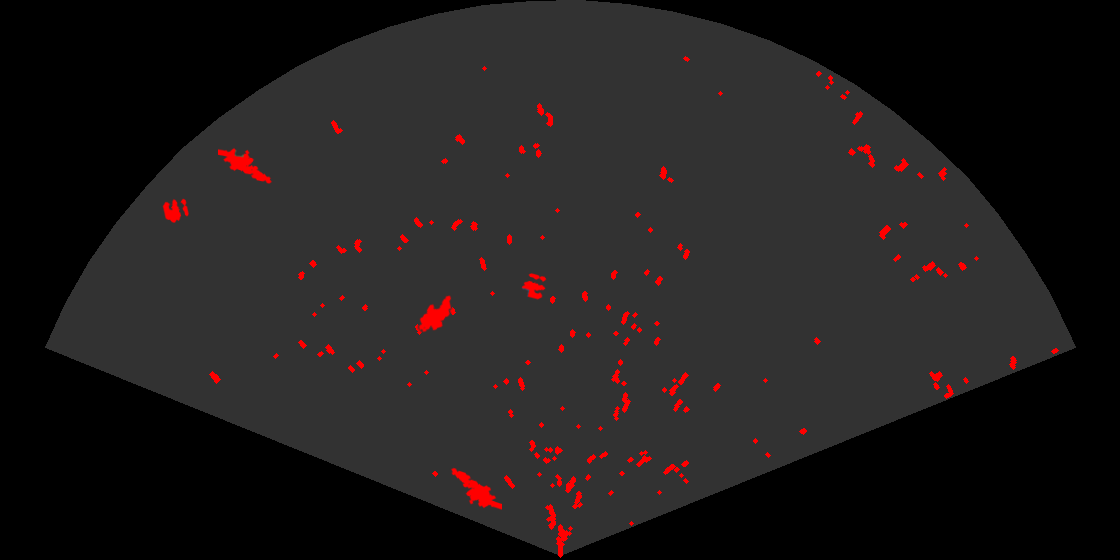AUV: (417, 294, 453, 334)
ball: (520, 272, 548, 301), (161, 197, 190, 224)
frogman: (449, 466, 502, 511), (218, 146, 274, 185)
